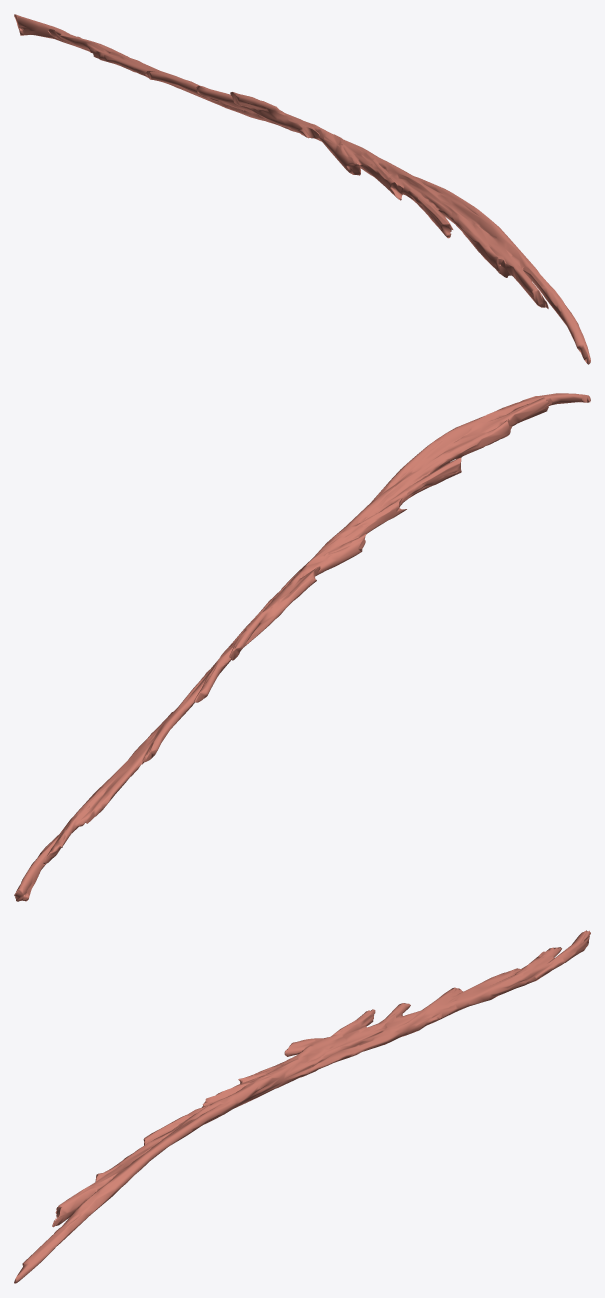
3 renders of one model, top to bottom at view 1: azimuth 30°, elevation 25°; view 2: azimuth 150°, elevation 25°; view 3: azimuth 330°, elevation 25°, orthographic.
Visible parts, largest first — view 1: 左侧胸棘肌; view 2: 左侧胸棘肌; view 3: 左侧胸棘肌.
Part boxes in pixels (x1,y1,x2,y2): 左侧胸棘肌: (14, 14, 590, 364); 左侧胸棘肌: (14, 393, 590, 901); 左侧胸棘肌: (14, 930, 590, 1283).
Bounding box in the file's own units: 0.0186 × 0.0728 × 0.5562.
